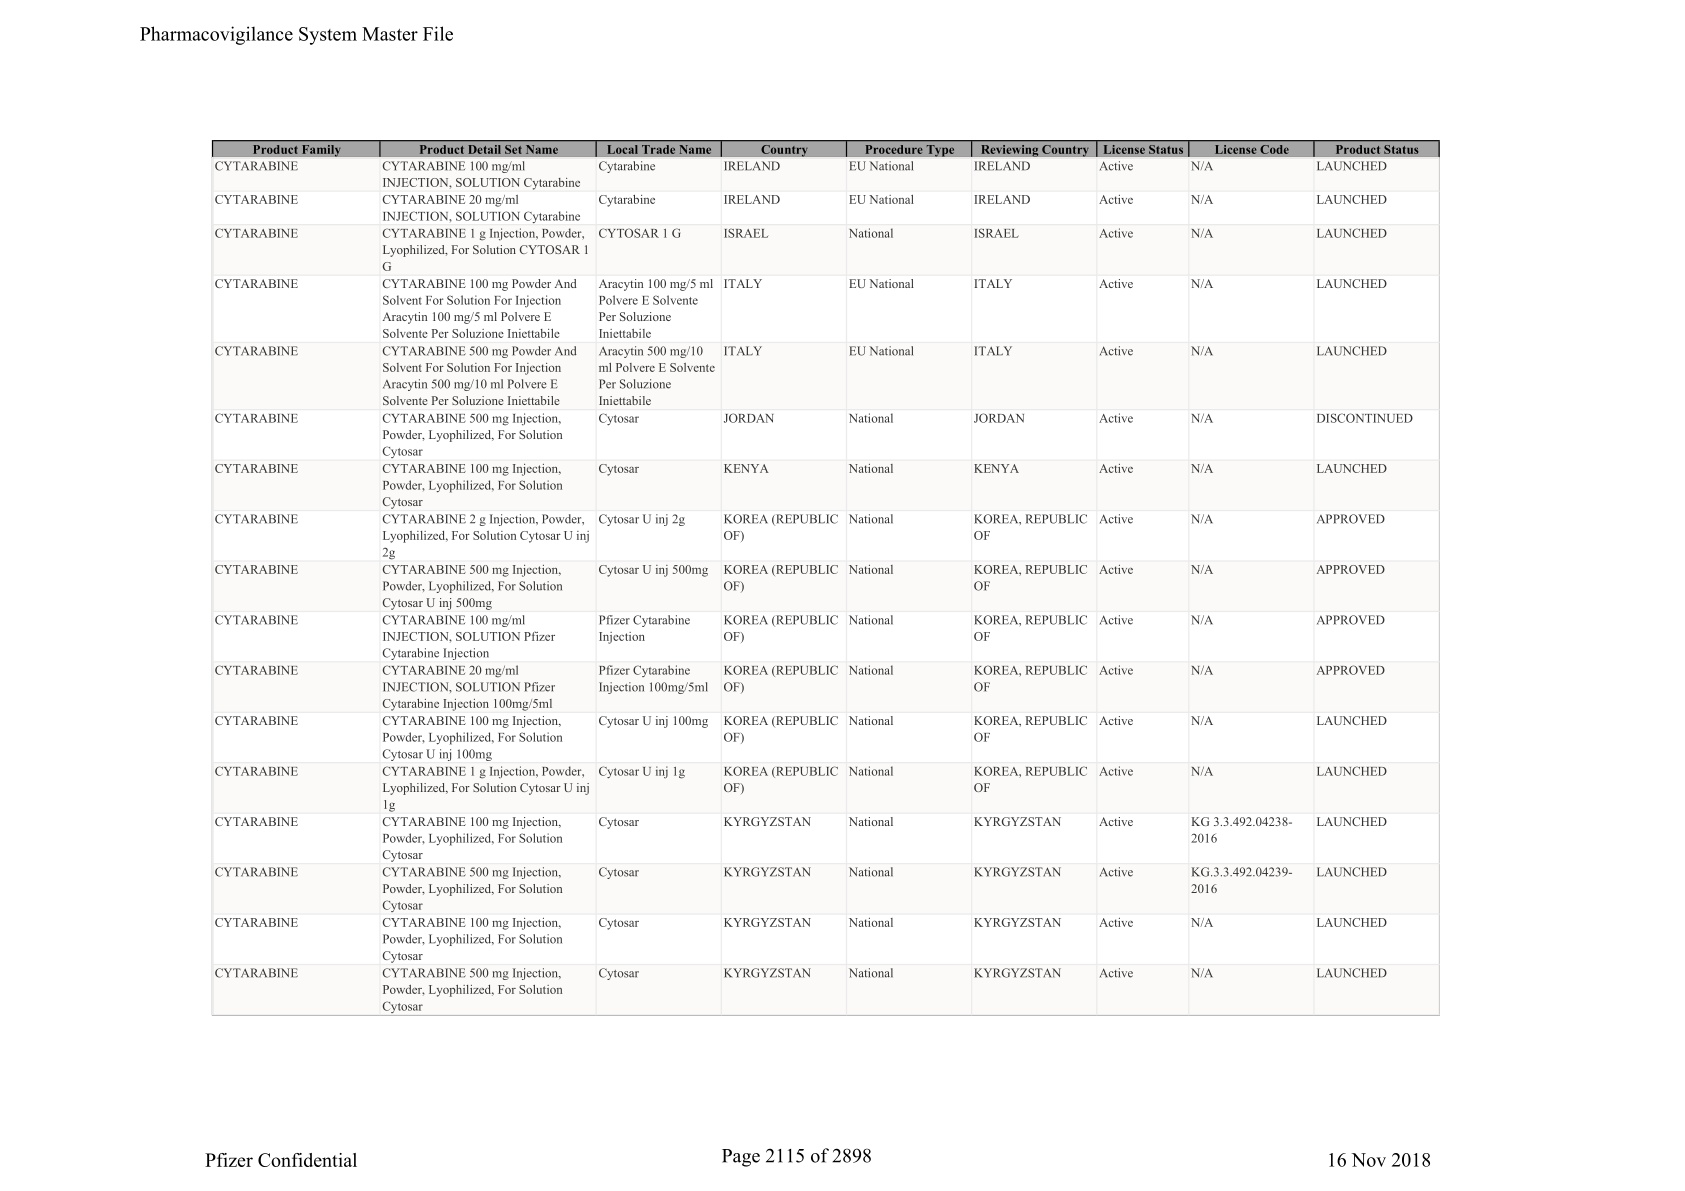full_lined: (210, 139, 1441, 1017)
